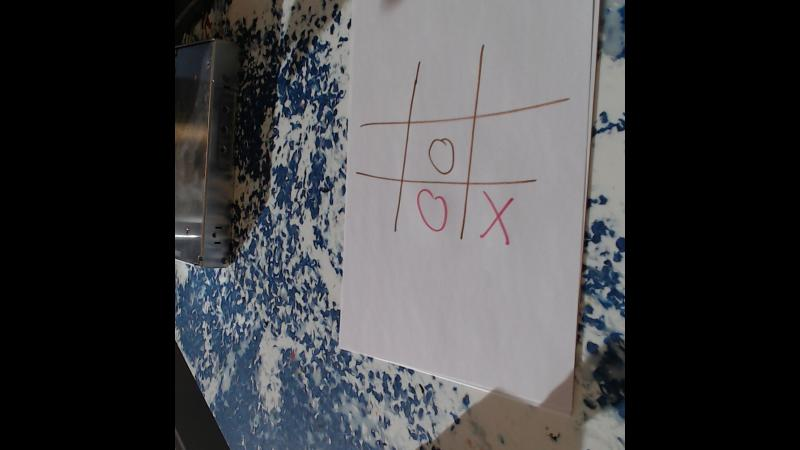O: (422, 131, 464, 180), (413, 186, 455, 233)
X: (470, 188, 526, 242)
grid: (358, 56, 574, 242)
